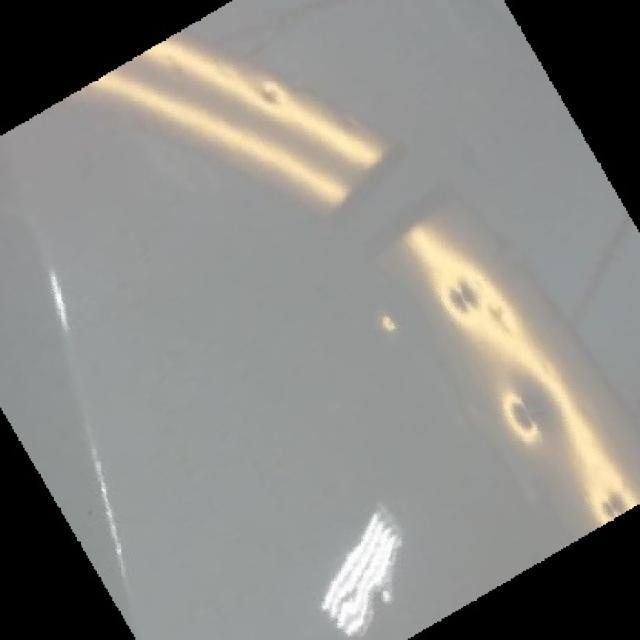dent: (500, 389, 543, 444), (448, 273, 486, 318), (595, 487, 632, 526), (261, 78, 290, 112), (487, 303, 513, 337), (379, 312, 401, 337)
